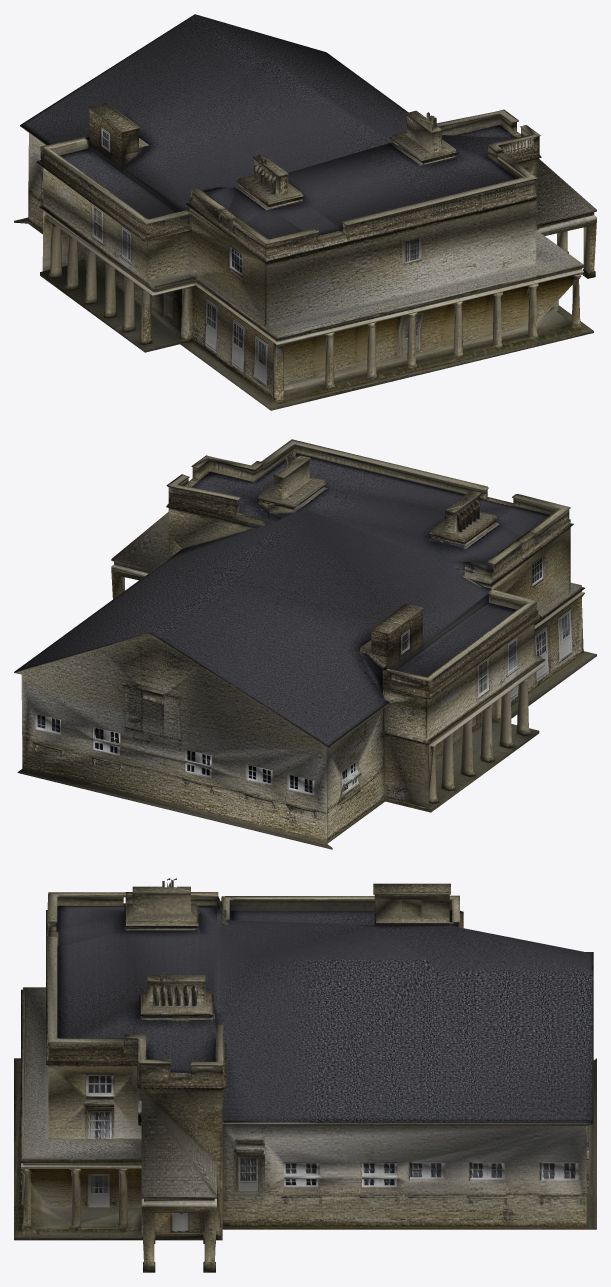
File: mosley+mansion+3d+model.glb
3 renders of one model, top to bottom at view 1: azimuth 30°, elevation 25°; view 2: azimuth 150°, elevation 25°; view 3: azimuth 270°, elevation 25°, orthographic. The views are drawn at different scales.
Visible parts, largest first — view 1: tripo_node_4faa6c2a-d8c4-4599-9e20-7e5926ddd04d; view 2: tripo_node_4faa6c2a-d8c4-4599-9e20-7e5926ddd04d; view 3: tripo_node_4faa6c2a-d8c4-4599-9e20-7e5926ddd04d.
Boxes of the visible parts, x1,y1,x2,y2 form: tripo_node_4faa6c2a-d8c4-4599-9e20-7e5926ddd04d: (14, 14, 596, 410); tripo_node_4faa6c2a-d8c4-4599-9e20-7e5926ddd04d: (14, 439, 596, 849); tripo_node_4faa6c2a-d8c4-4599-9e20-7e5926ddd04d: (14, 878, 596, 1272).
Size of the model in its own units: 0.9395 by 0.4082 by 0.998.
1 material, 1 textured.
